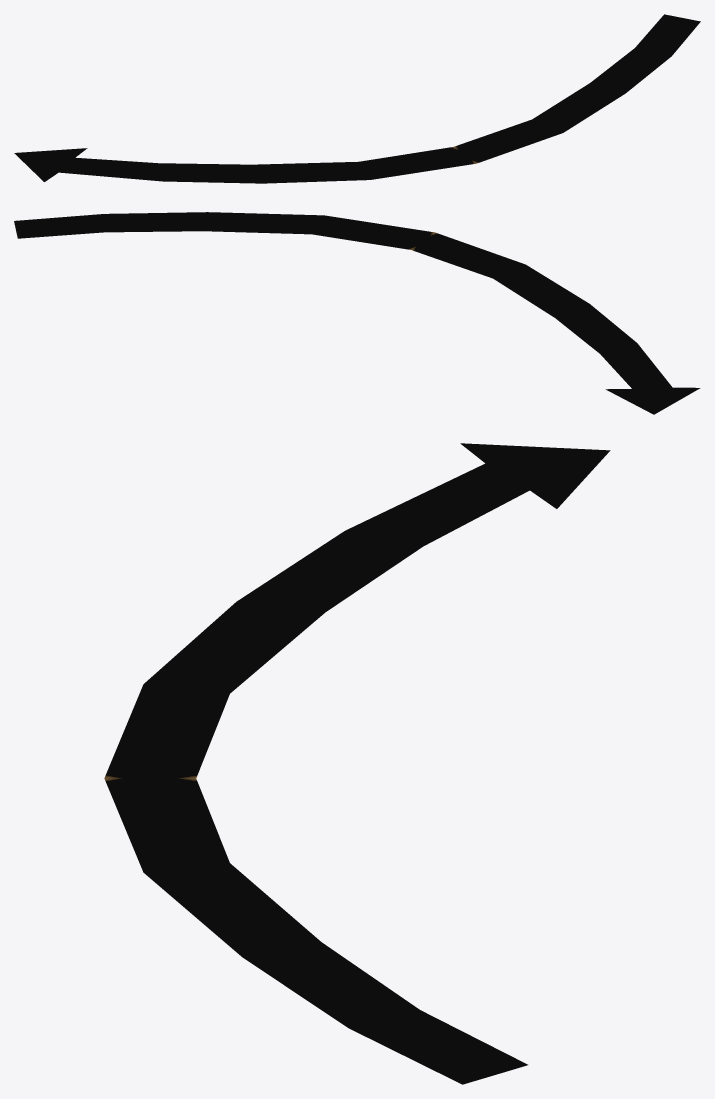
File: arrow03-02.FBX
3 views of the same model, one above another, from view 1: azimuth 30°, elevation 25°; view 2: azimuth 150°, elevation 25°; view 3: azimuth 270°, elevation 25° (orthographic). The views are drawn at different scales.
Visible parts, largest first — view 1: Box008; view 2: Box008; view 3: Box008.
Boxes of the visible parts, left/top/right/bottom form: Box008: left=14, top=14, right=700, bottom=183; Box008: left=14, top=212, right=700, bottom=414; Box008: left=104, top=443, right=610, bottom=1084.
Size of the model in its own units: 1632 by 9.95e-14 by 544.
